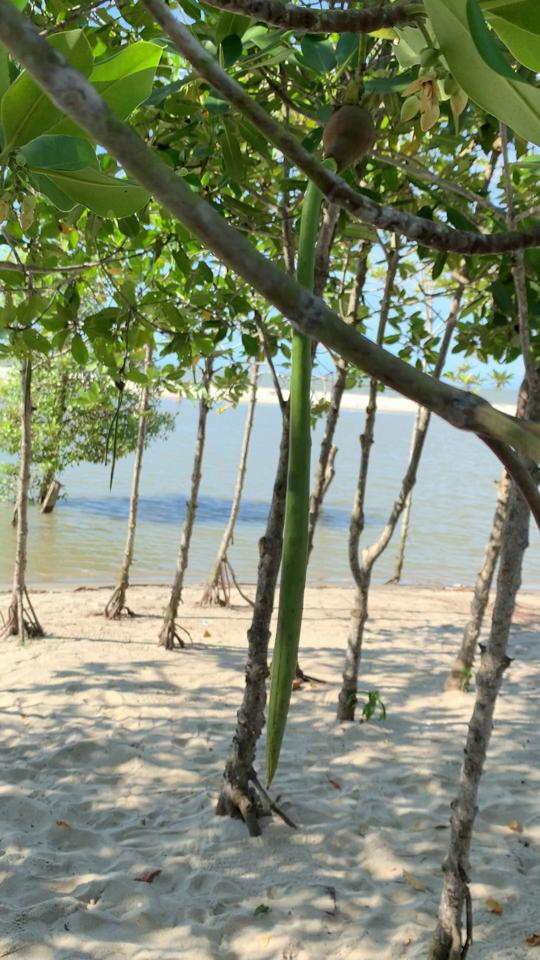setengah matang: (256, 85, 386, 786)
